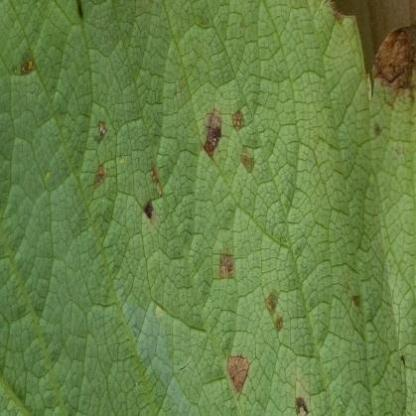Strawberry_Angular_LeafSpot: (17, 48, 370, 415), (369, 22, 415, 142)
